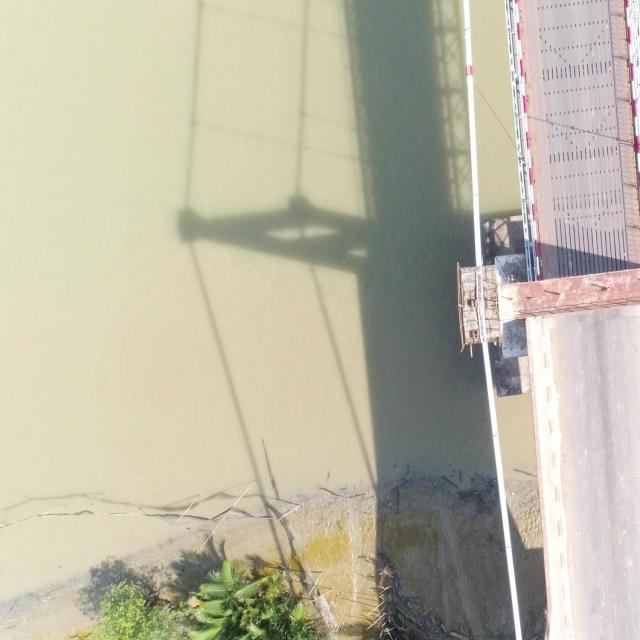crack: (464, 28, 470, 31), (472, 194, 478, 196), (492, 434, 498, 436), (506, 546, 511, 548)
